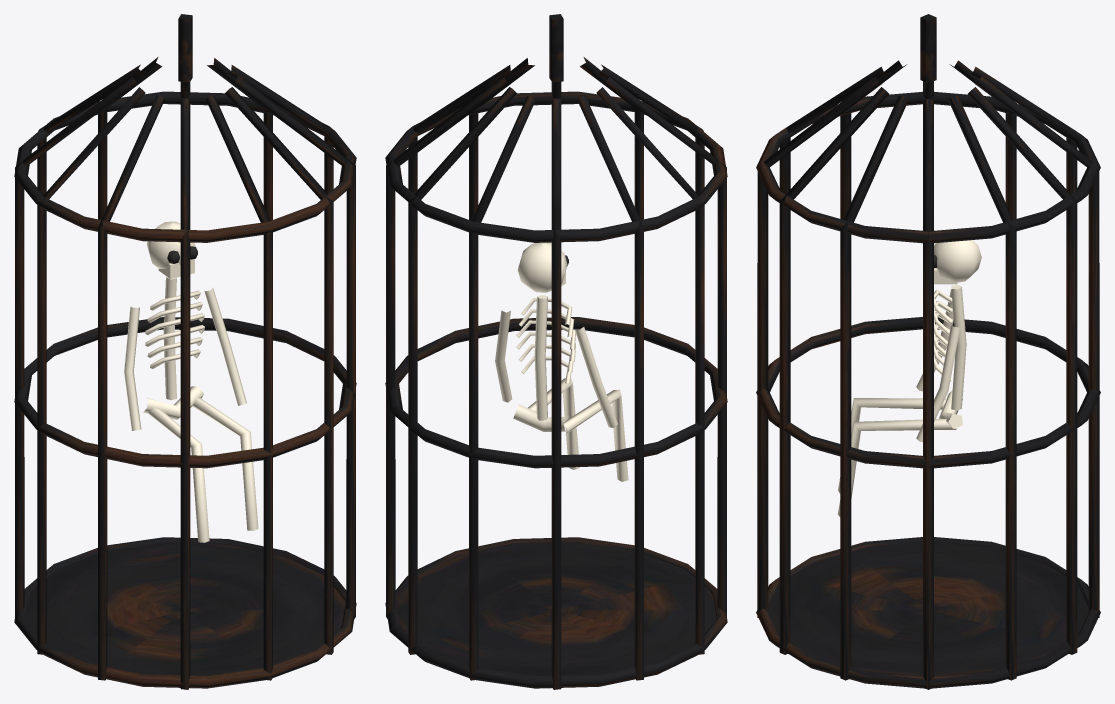
The model's file is cage.glb.
3 views of the same model, side by side, from view 1: azimuth 30°, elevation 25°; view 2: azimuth 150°, elevation 25°; view 3: azimuth 270°, elevation 25° (orthographic).
Parts seen in each view (by area): view 1: cage; view 2: cage; view 3: cage.
Boxes of the visible parts, bbox=[...] form: cage: bbox=[14, 14, 356, 689]; cage: bbox=[385, 14, 727, 689]; cage: bbox=[756, 14, 1100, 689].
Size of the model in its own units: 1.25 by 2.41 by 1.25.
Materials: 3 (1 with a texture image).
